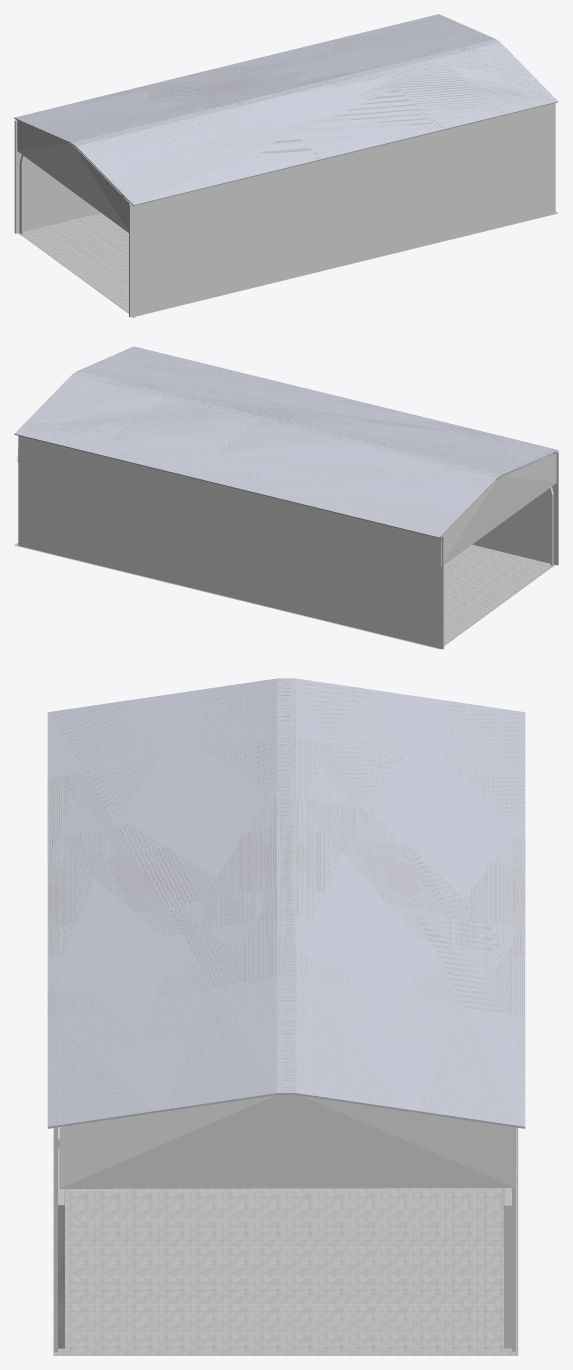
Rendered from Hangar.0.3.gltf.
3 views of the same model, one above another, from view 1: azimuth 30°, elevation 25°; view 2: azimuth 150°, elevation 25°; view 3: azimuth 270°, elevation 25° (orthographic). The views are drawn at different scales.
Visible parts, largest first — view 1: instance_0.067, Cube.031, Plane.001, Cube.030, Cube.028; view 2: instance_0.067, Cube.028, Plane.001, Cube.030, Cube.031; view 3: instance_0.067, Plane.001, Cube.029, Cube.022, Cube.005, Cube.031.
Boxes of the visible parts, x1,y1,x2,y2 form: instance_0.067: (14, 14, 558, 205); Cube.031: (129, 103, 555, 317); Plane.001: (18, 211, 558, 317); Cube.030: (16, 119, 129, 232); Cube.028: (14, 120, 130, 233); instance_0.067: (14, 346, 558, 538); Cube.028: (18, 435, 444, 649); Plane.001: (14, 543, 554, 649); Cube.030: (441, 453, 556, 566); Cube.031: (472, 451, 558, 565); instance_0.067: (47, 678, 525, 1128); Plane.001: (53, 1122, 518, 1355); Cube.029: (59, 1095, 515, 1188); Cube.022: (504, 1204, 511, 1348); Cube.005: (58, 1204, 64, 1348); Cube.031: (54, 1127, 57, 1352).
Bounding box in the file's own units: 22.12 × 6.5 × 10.67.
Materials: 25 (3 with a texture image).
